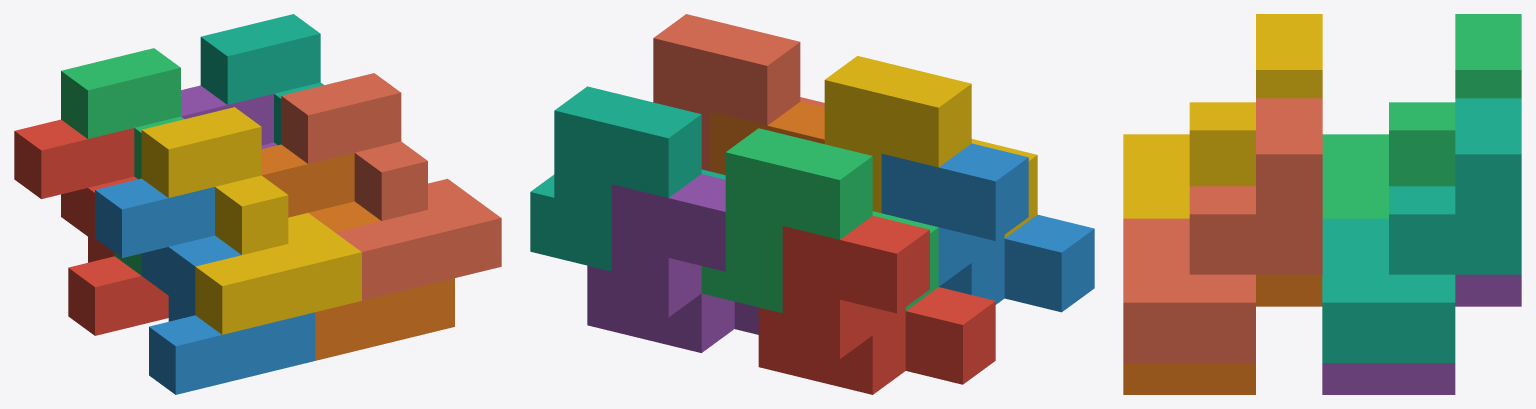
The model's file is tiling.obj.
3 renders of one model, left to right at view 1: azimuth 30°, elevation 25°; view 2: azimuth 150°, elevation 25°; view 3: azimuth 270°, elevation 25°, orthographic. The views are drawn at different scales.
Parts seen in each view (by area): view 1: copy_1_domain_4, copy_1_domain_8, copy_1_domain_2, copy_1_domain_1, copy_1_domain_6, copy_1_domain_3, copy_1_domain_7, copy_1_domain_5; view 2: copy_1_domain_1, copy_1_domain_2, copy_1_domain_5, copy_1_domain_7, copy_1_domain_3, copy_1_domain_4, copy_1_domain_8, copy_1_domain_6; view 3: copy_1_domain_7, copy_1_domain_8, copy_1_domain_3, copy_1_domain_4, copy_1_domain_5, copy_1_domain_6.
Boxes of the visible parts, x1,y1,x2,y2 form: copy_1_domain_4: (141,107,361,334); copy_1_domain_8: (281,73,501,300); copy_1_domain_2: (95,178,315,394); copy_1_domain_1: (14,119,168,335); copy_1_domain_6: (261,144,454,360); copy_1_domain_3: (61,48,184,275); copy_1_domain_7: (200,14,323,144); copy_1_domain_5: (181,85,277,148); copy_1_domain_1: (758,216,995,394); copy_1_domain_2: (881,143,1094,312); copy_1_domain_5: (587,174,758,352); copy_1_domain_7: (530,86,725,271); copy_1_domain_3: (701,128,938,312); copy_1_domain_4: (824,56,1037,238); copy_1_domain_8: (653,14,824,171); copy_1_domain_6: (710,101,824,174); copy_1_domain_7: (1322,98,1521,362); copy_1_domain_8: (1123,98,1322,362); copy_1_domain_3: (1322,14,1521,218); copy_1_domain_4: (1123,14,1322,218); copy_1_domain_5: (1322,274,1521,394); copy_1_domain_6: (1123,274,1322,394).
Bounding box in the file's own units: 7 × 4 × 6.
